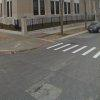Crosswalk: (44, 32, 100, 63)
